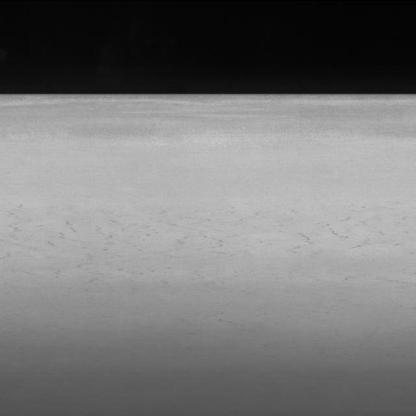silk_spot: (6, 201, 416, 277)
